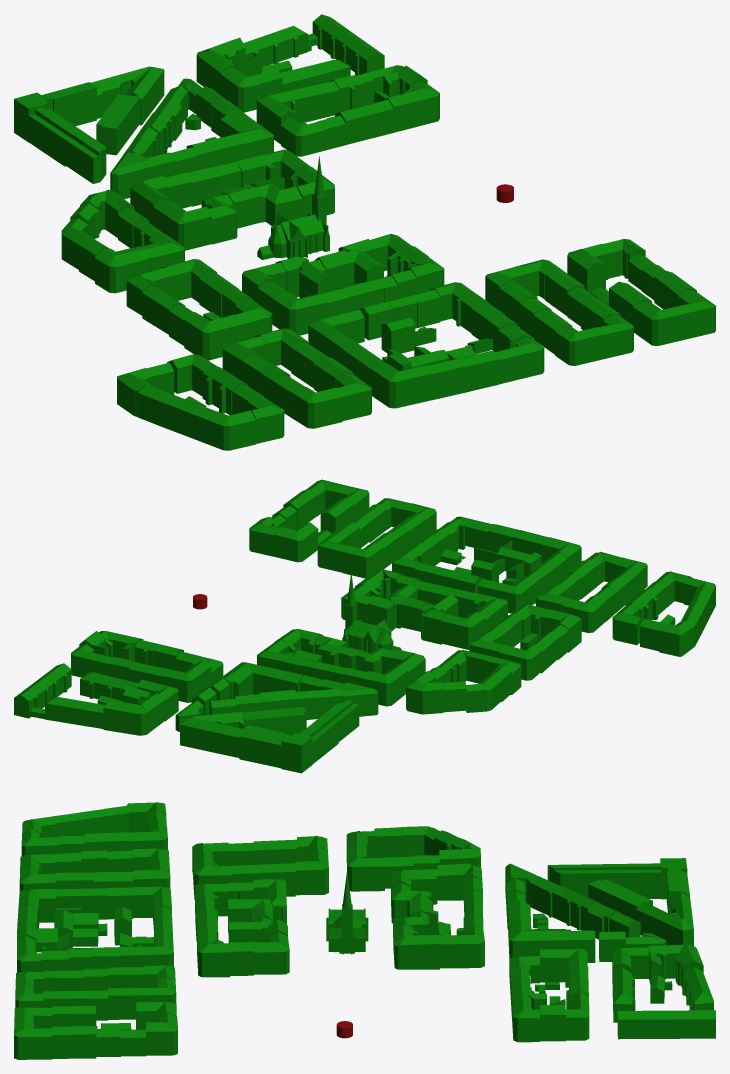
3 renders of one model, top to bottom at view 1: azimuth 30°, elevation 25°; view 2: azimuth 150°, elevation 25°; view 3: azimuth 270°, elevation 25°, orthographic. The views are drawn at different scales.
Parts seen in each view (by area): view 1: Layer0_001, paulus_kirke_001, Paulus_plass_10_001; view 2: Layer0_001, paulus_kirke_001, Paulus_plass_10_001; view 3: Layer0_001, paulus_kirke_001, Paulus_plass_10_001.
Boxes of the visible parts, box(x1,y1,x2,y2) form: Layer0_001: box(14, 14, 715, 450); paulus_kirke_001: box(257, 156, 329, 259); Paulus_plass_10_001: box(201, 194, 237, 244); Layer0_001: box(14, 479, 715, 773); paulus_kirke_001: box(342, 572, 401, 652); Paulus_plass_10_001: box(358, 648, 394, 674); Layer0_001: box(14, 802, 715, 1059); paulus_kirke_001: box(326, 870, 368, 954); Paulus_plass_10_001: box(391, 883, 431, 923).
Size of the model in its own units: 336360 by 63484 by 423520.
